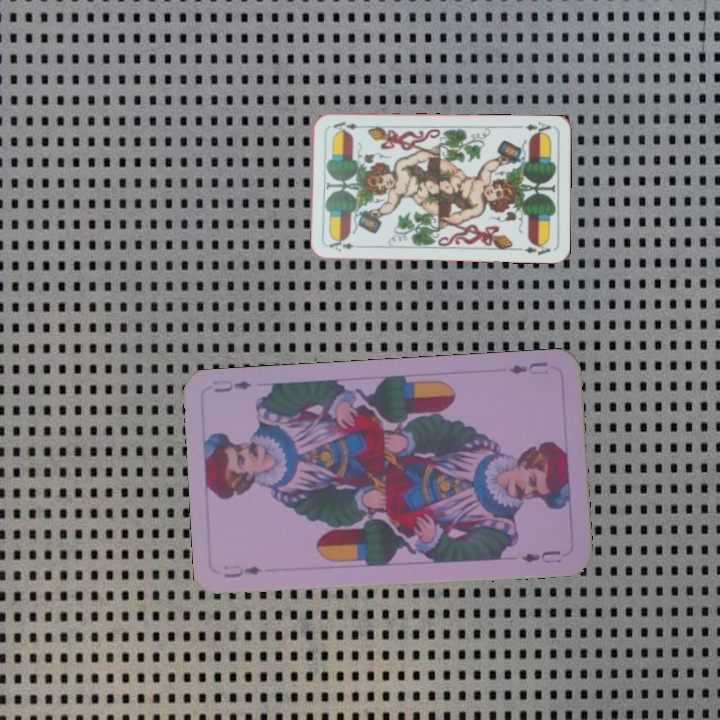EA: (515, 118, 555, 138), (325, 236, 356, 254)
EU: (505, 358, 551, 378), (220, 561, 264, 581)
